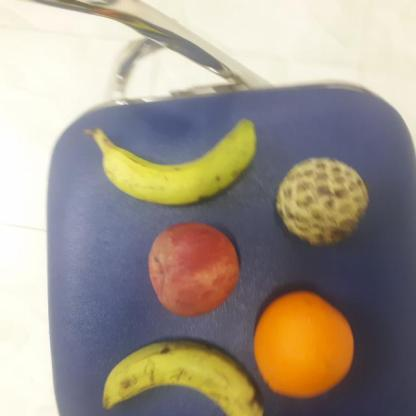annona: (272, 154, 375, 247)
apple: (145, 221, 242, 318)
banana: (89, 115, 261, 206), (100, 334, 264, 416)
orange: (249, 288, 362, 398)
